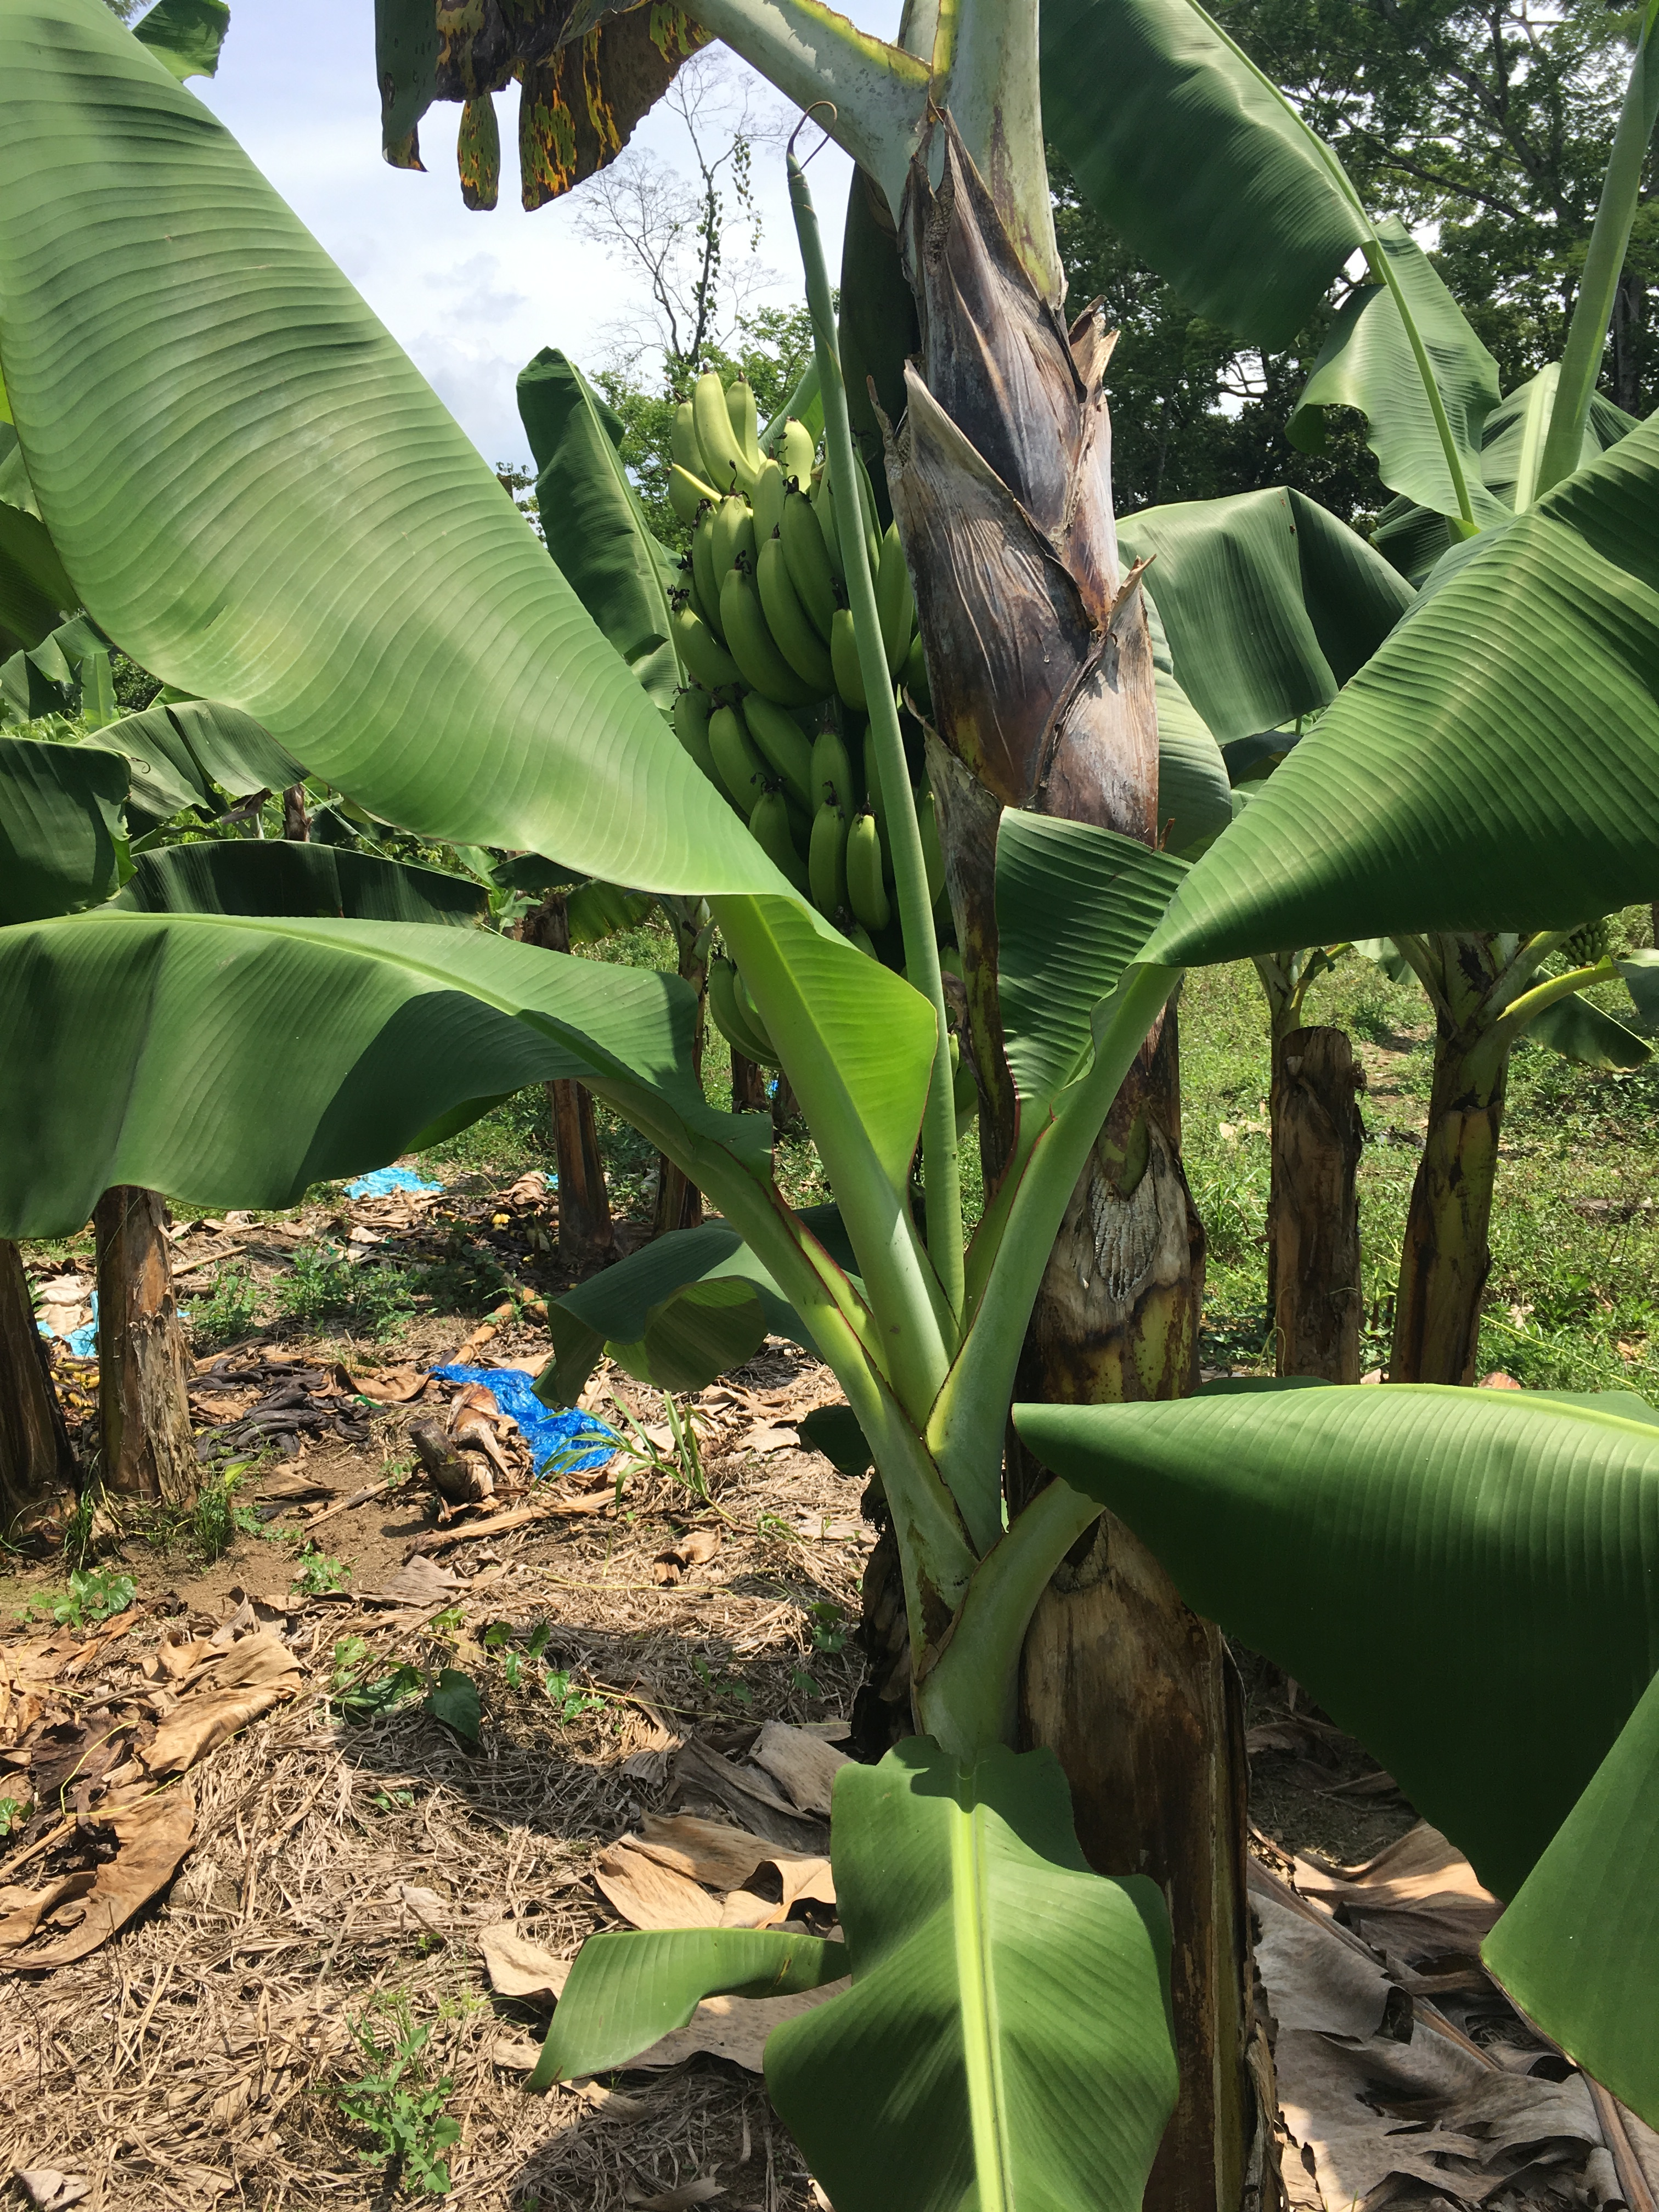candleleafs: (784, 99, 967, 1331)
